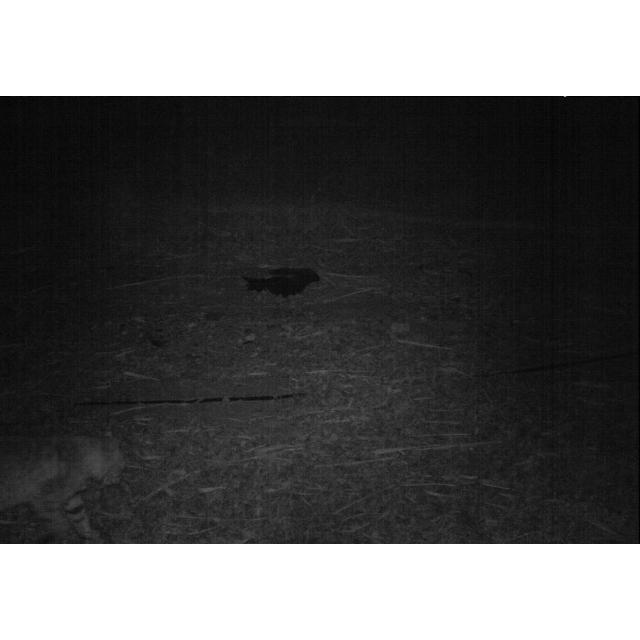animals: (0, 428, 128, 540)
